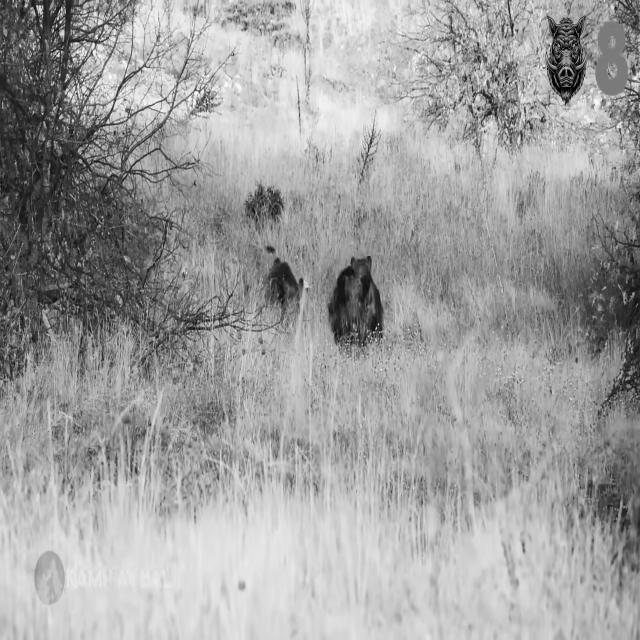boar: (328, 255, 382, 343), (268, 257, 303, 304)
